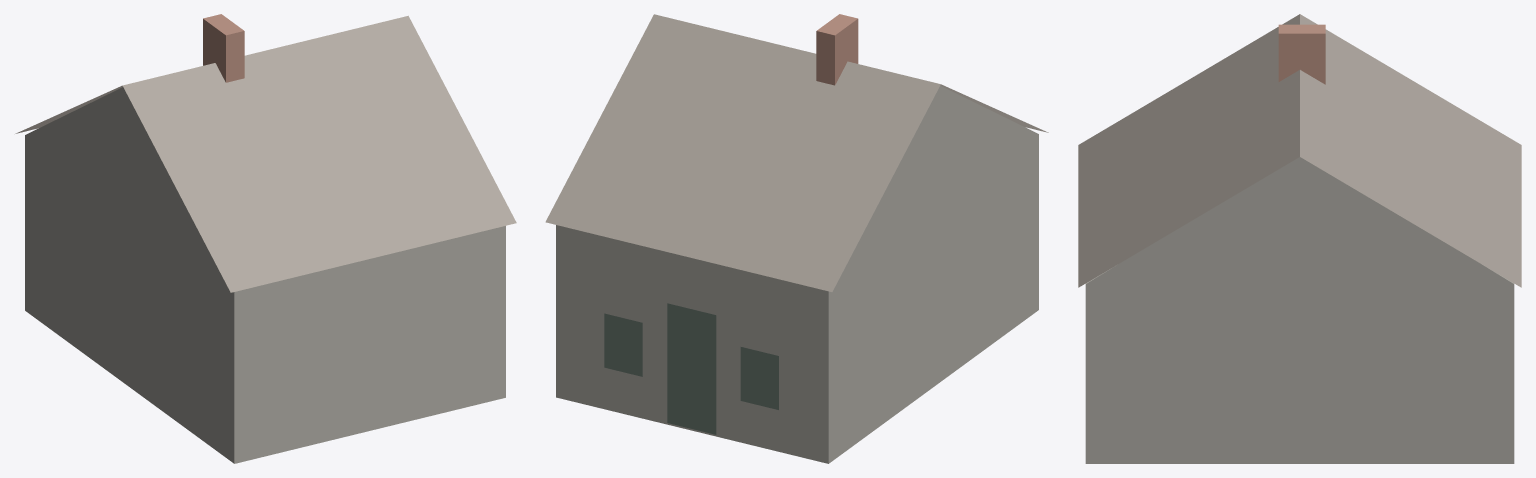
Rendered from recon_1835_south_c1_003__recommended_1835.glb.
3 renders of one model, left to right at view 1: azimuth 30°, elevation 25°; view 2: azimuth 150°, elevation 25°; view 3: azimuth 270°, elevation 25°, orthographic. The views are drawn at different scales.
Parts seen in each view (by area): view 1: recon_1835_south_c1_003__recommended_1835; view 2: recon_1835_south_c1_003__recommended_1835; view 3: recon_1835_south_c1_003__recommended_1835.
Part boxes in pixels (box(x1,y1,x2,y2)): recon_1835_south_c1_003__recommended_1835: box(15, 14, 516, 463); recon_1835_south_c1_003__recommended_1835: box(545, 14, 1048, 463); recon_1835_south_c1_003__recommended_1835: box(1078, 14, 1521, 463).
Bounding box in the file's own units: 5.54 × 6.27 × 7.27.
